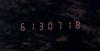eight: (71, 19, 79, 29)
one: (26, 20, 34, 31), (62, 19, 70, 30)
seven: (53, 19, 61, 30)
six: (17, 21, 25, 31)
three: (35, 20, 43, 31)
zero: (44, 20, 52, 30)
